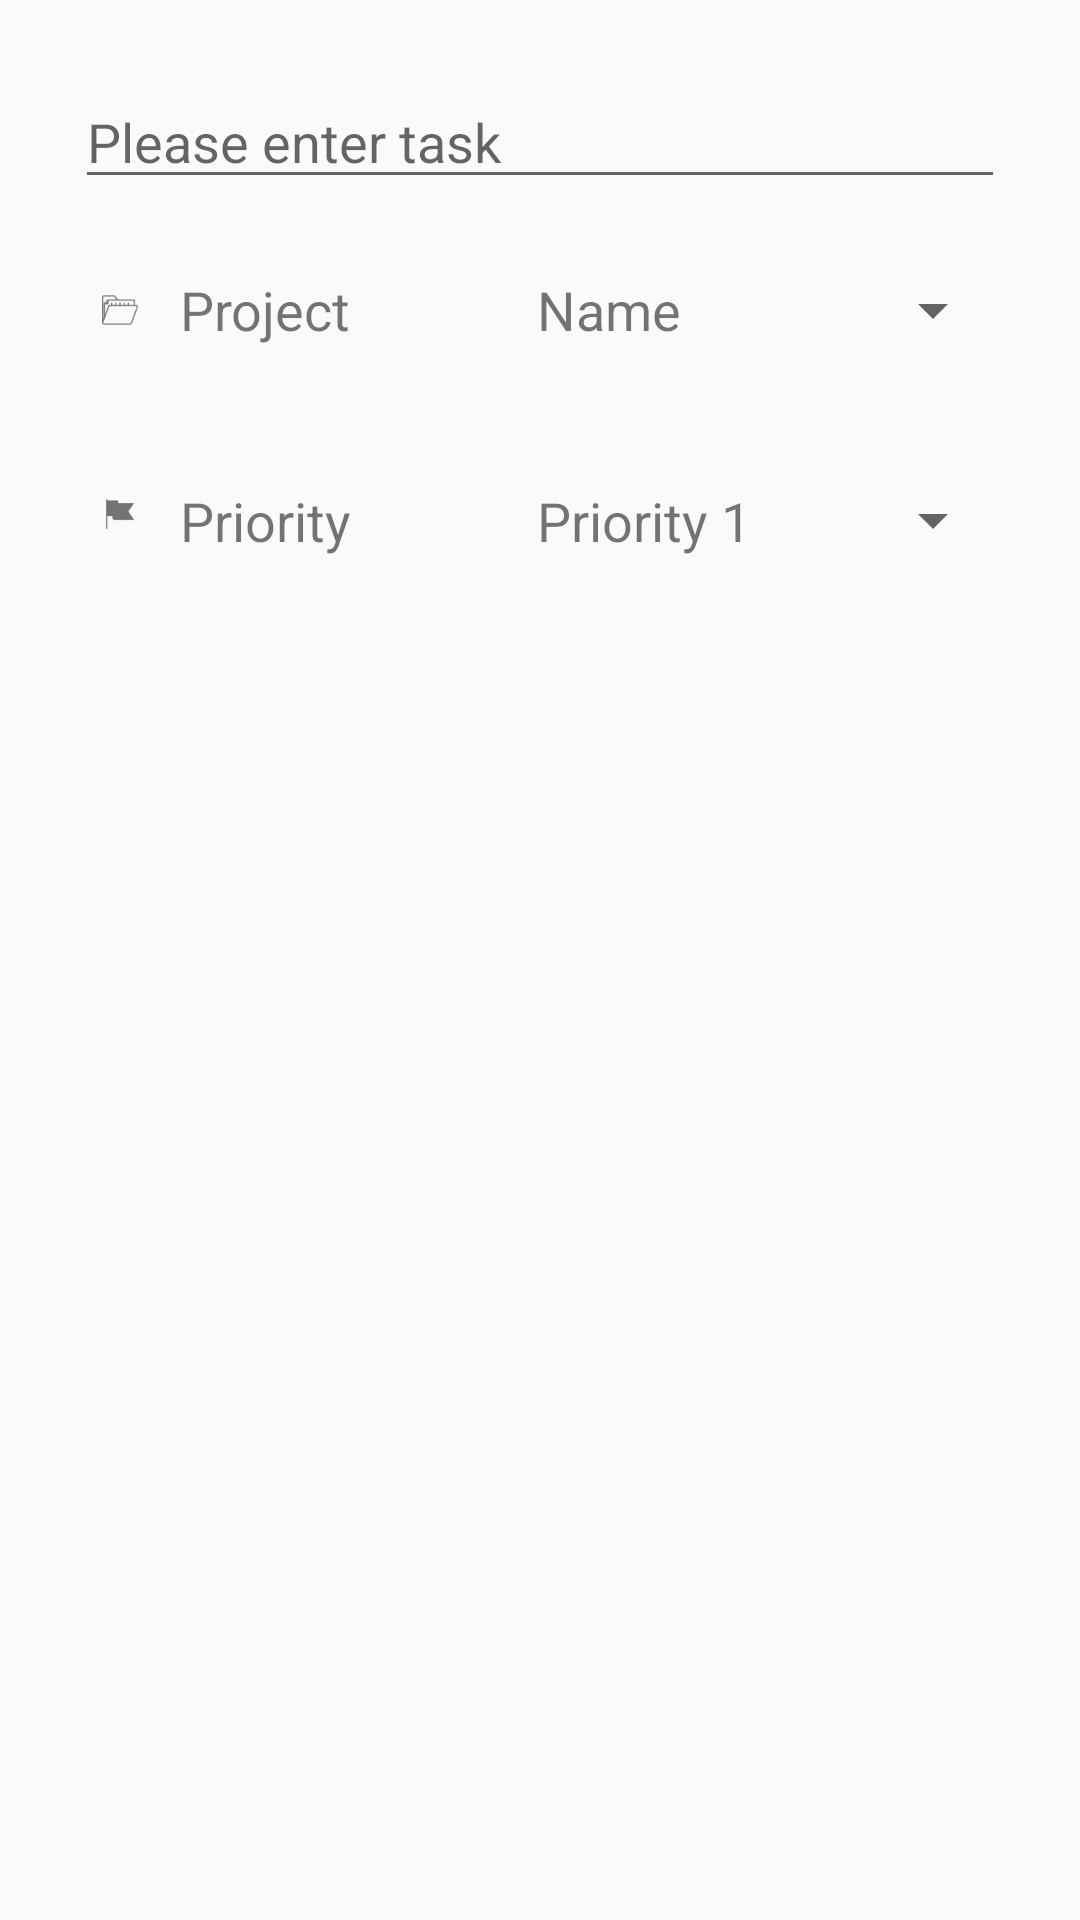

Named icons in this screenshot (1080px x 1920px) and their bounding boxes, (x1, y1, x2, y2):
folder: (102, 295, 138, 325)
